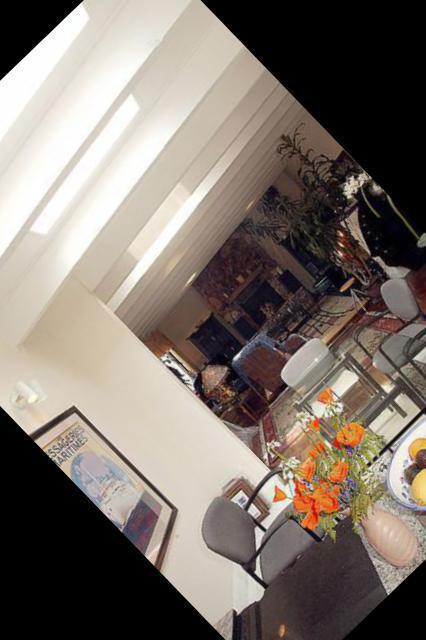Matera: (223, 121, 426, 333), (256, 398, 426, 601), (334, 121, 426, 253)
